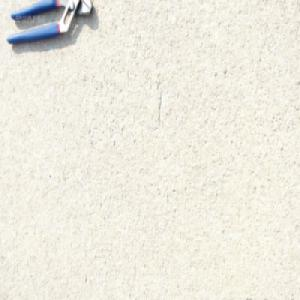Pliers: (5, 0, 94, 45)
